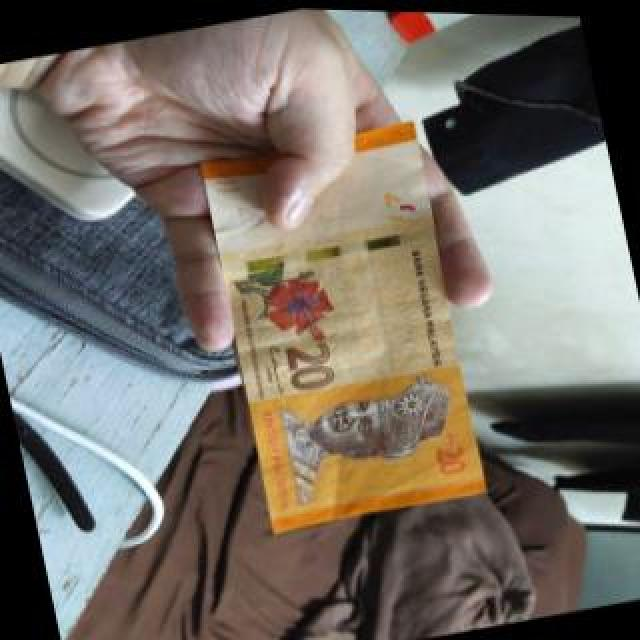20 Ringgit: (194, 104, 488, 531)
